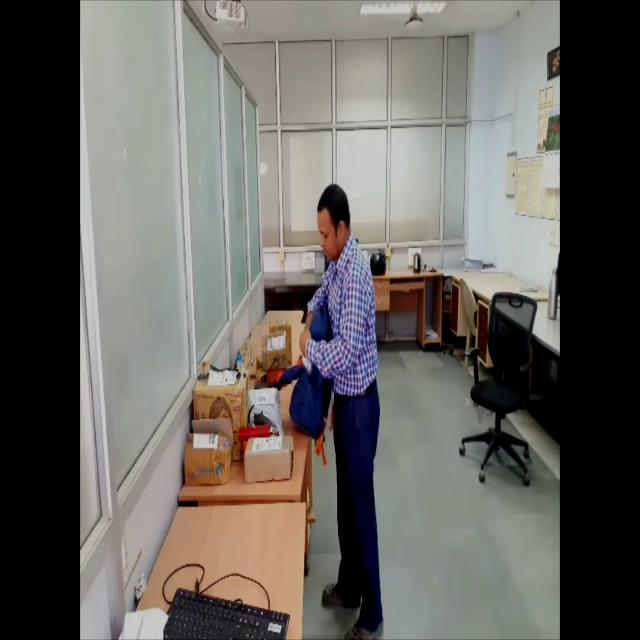shoplifting: (288, 179, 388, 640)
